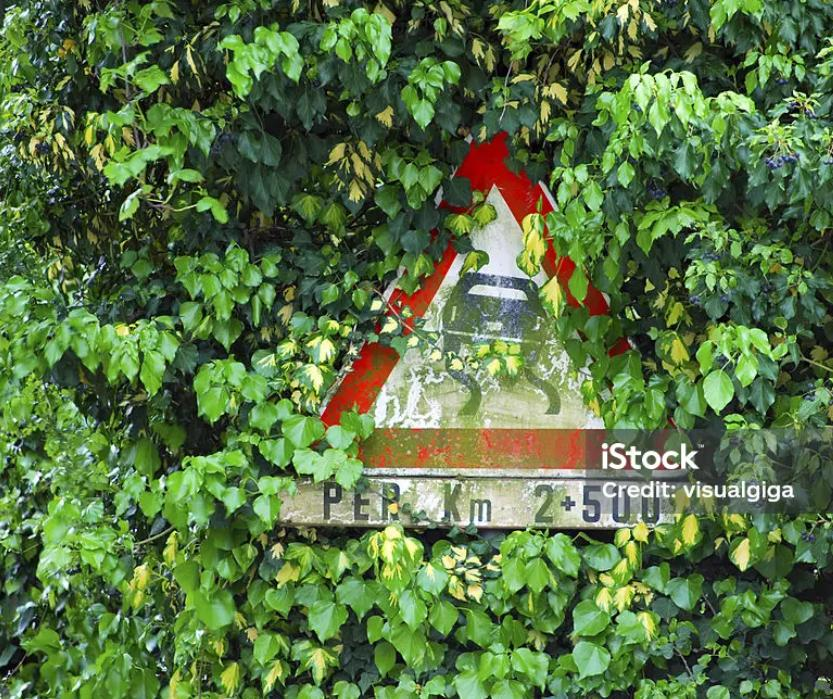obstructed_road_sign: (292, 124, 701, 475)
